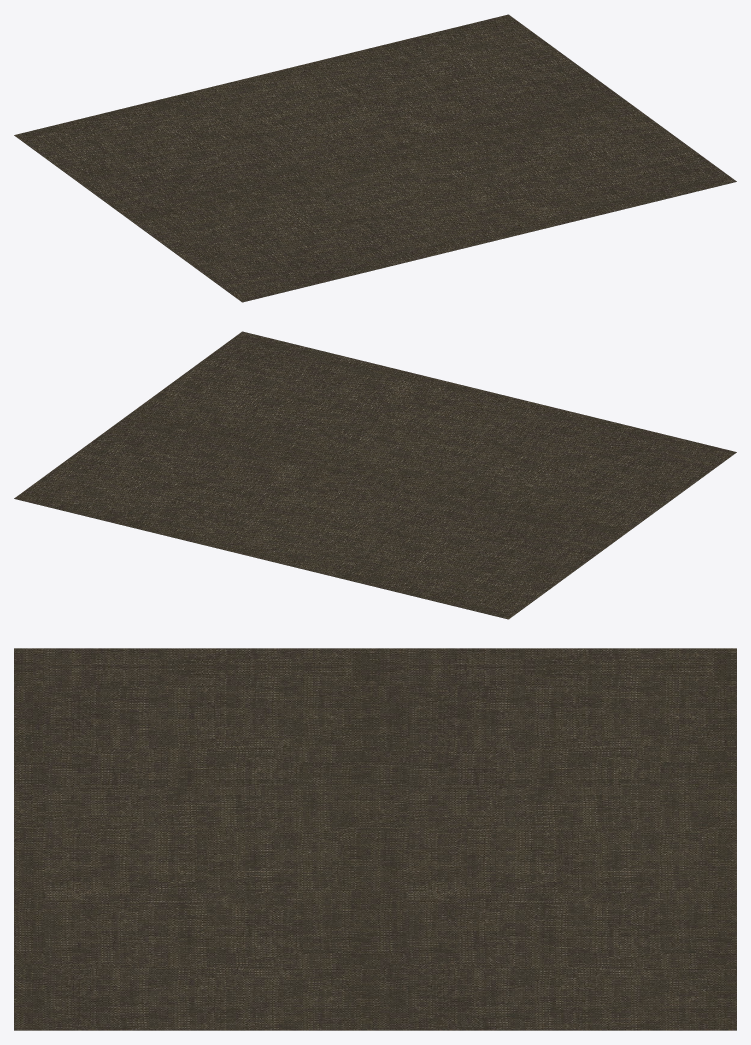
File: hotel-carpet.glb
3 renders of one model, top to bottom at view 1: azimuth 30°, elevation 25°; view 2: azimuth 150°, elevation 25°; view 3: azimuth 270°, elevation 25°, orthographic. The views are drawn at different scales.
Parts seen in each view (by area): view 1: carpet; view 2: carpet; view 3: carpet.
Boxes of the visible parts, x1,y1,x2,y2 form: carpet: (14, 14, 736, 302); carpet: (14, 331, 736, 619); carpet: (14, 648, 736, 1030).
Size of the model in its own units: 4.25 by 0.00269 by 3.4.
Materials: 1 (1 with a texture image).
